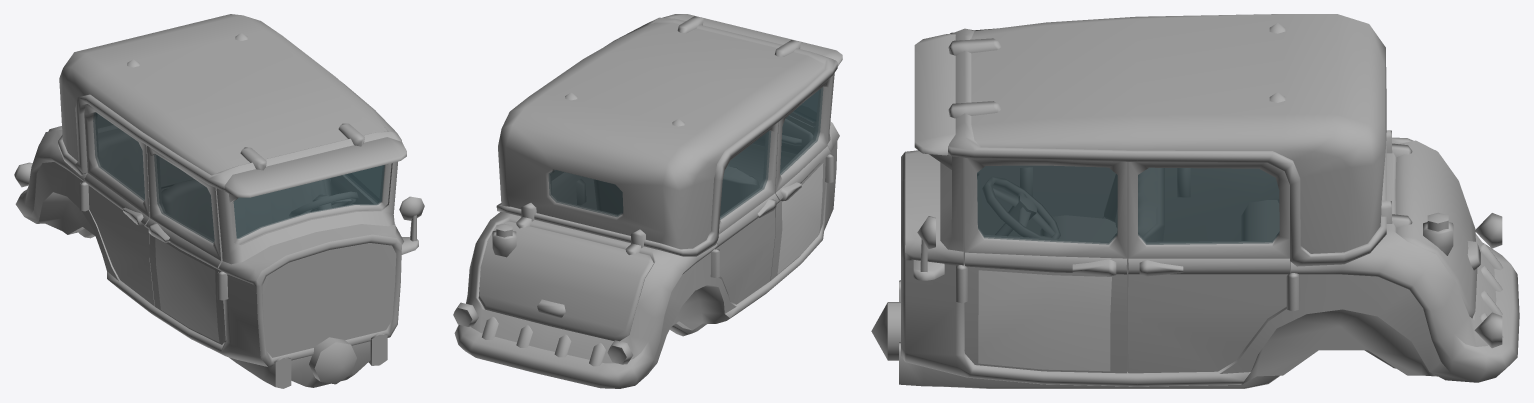
The model's file is Body_Scrudge.fbx.
The picture shows the model from 3 angles, left to right: view 1: azimuth 30°, elevation 25°; view 2: azimuth 150°, elevation 25°; view 3: azimuth 270°, elevation 25°; orthographic projection. The views are drawn at different scales.
Visible parts, largest first — view 1: Scrudge_Body_Mesh, Scrudge_Door_Back_R_Mesh, Scrudge_Body_Window_Mesh, Scrudge_Body_Cap_Mesh, Scrudge_Door_Right_Mesh, Scrudge_Door_Right_Decal_Mesh, Scrudge_Door_Right_Window_Mesh, Scrudge_Door_Back_R_Window_Mesh, Body_SteerWheel_Geom_Mesh, Scrudge_Door_Left_Mesh, Scrudge_Door_Left_Window_Mesh; view 2: Scrudge_Body_Mesh, Scrudge_Door_Back_R_Mesh, Scrudge_Door_Right_Mesh, Scrudge_Door_Right_Decal_Mesh, Scrudge_Body_Window_Mesh, Scrudge_Door_Back_R_Window_Mesh, Scrudge_Door_Right_Window_Mesh, Scrudge_Body_Cap_Mesh, Scrudge_Door_Back_L_Mesh; view 3: Scrudge_Body_Mesh, Scrudge_Door_Back_L_Mesh, Scrudge_Door_Left_Decal_Mesh, Scrudge_Door_Left_Mesh, Scrudge_Door_Back_L_Window_Mesh, Scrudge_Door_Left_Window_Mesh, Scrudge_Door_Back_R_Mesh, Scrudge_Door_Right_Mesh, Scrudge_Body_Cap_Mesh, Body_SteerWheel_Geom_Mesh.
Boxes of the visible parts, bbox=[...] form: Scrudge_Body_Mesh: bbox=[14, 14, 424, 388]; Scrudge_Door_Back_R_Mesh: bbox=[84, 104, 154, 306]; Scrudge_Body_Window_Mesh: bbox=[233, 165, 384, 238]; Scrudge_Body_Cap_Mesh: bbox=[224, 137, 406, 202]; Scrudge_Door_Right_Mesh: bbox=[146, 146, 226, 344]; Scrudge_Door_Right_Decal_Mesh: bbox=[155, 237, 219, 342]; Scrudge_Door_Right_Window_Mesh: bbox=[154, 154, 214, 243]; Scrudge_Door_Back_R_Window_Mesh: bbox=[93, 112, 144, 200]; Body_SteerWheel_Geom_Mesh: bbox=[289, 192, 358, 217]; Scrudge_Door_Left_Mesh: bbox=[330, 165, 383, 204]; Scrudge_Door_Left_Window_Mesh: bbox=[347, 166, 381, 201]; Scrudge_Body_Mesh: bbox=[453, 16, 839, 388]; Scrudge_Door_Back_R_Mesh: bbox=[715, 122, 778, 304]; Scrudge_Door_Right_Mesh: bbox=[770, 76, 832, 280]; Scrudge_Door_Right_Decal_Mesh: bbox=[777, 163, 823, 273]; Scrudge_Body_Window_Mesh: bbox=[548, 91, 818, 217]; Scrudge_Door_Back_R_Window_Mesh: bbox=[720, 130, 771, 219]; Scrudge_Door_Right_Window_Mesh: bbox=[780, 87, 823, 175]; Scrudge_Body_Cap_Mesh: bbox=[662, 14, 842, 66]; Scrudge_Door_Back_L_Mesh: bbox=[551, 170, 596, 209]; Scrudge_Body_Mesh: bbox=[871, 14, 1519, 388]; Scrudge_Door_Back_L_Mesh: bbox=[1127, 162, 1290, 373]; Scrudge_Door_Left_Decal_Mesh: bbox=[978, 270, 1111, 371]; Scrudge_Door_Left_Mesh: bbox=[964, 157, 1127, 373]; Scrudge_Door_Back_L_Window_Mesh: bbox=[1138, 167, 1279, 244]; Scrudge_Door_Left_Window_Mesh: bbox=[977, 165, 1117, 244]; Scrudge_Door_Back_R_Mesh: bbox=[1163, 168, 1278, 241]; Scrudge_Door_Right_Mesh: bbox=[977, 166, 1115, 236]; Scrudge_Body_Cap_Mesh: bbox=[914, 34, 955, 169]; Body_SteerWheel_Geom_Mesh: bbox=[982, 177, 1060, 238].
Bounding box in the file's own units: 167 × 178 × 342.
